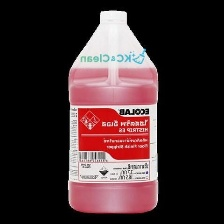cleaning_solution: (66, 6, 164, 217)
